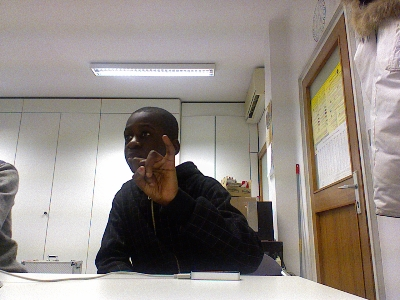小指: (127, 133, 181, 206)
